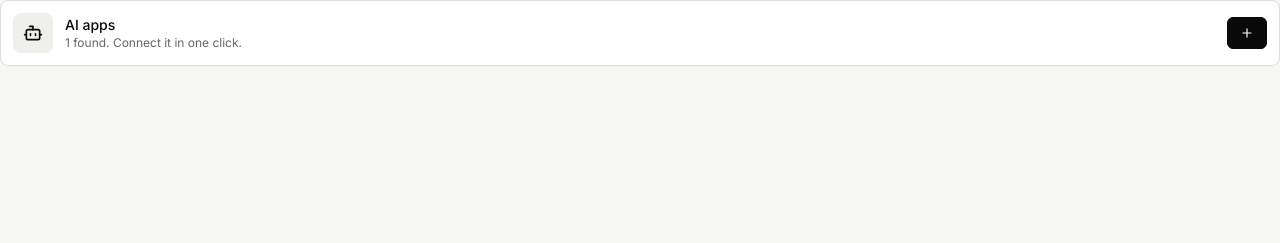
Test: AiToolsCard › connects and removes antigravity without skills
Later steps or results of the test are not shown.
Click the button "AI apps 1 found. Connect it in one click." at (33, 33), box x1=13 y1=13 x2=1215 y2=53
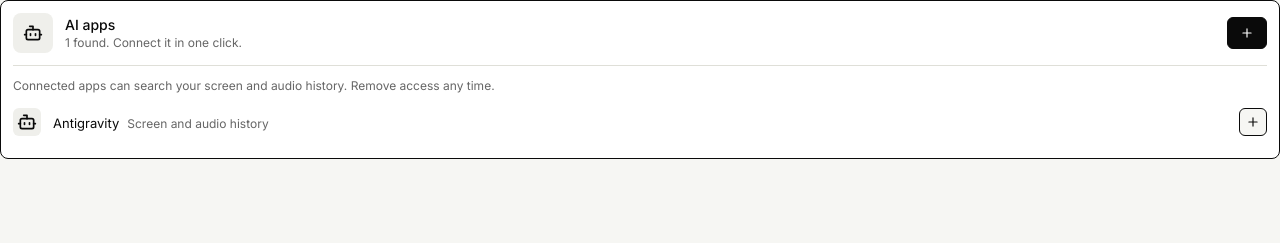
Click the button named "Connect Antigravity" at (1253, 122), box x1=1239 y1=108 x2=1267 y2=136
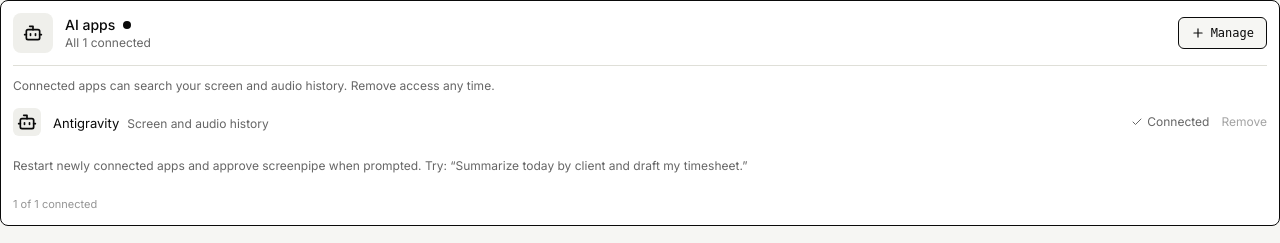
Expected: the text "All 1 connected" is shown, x1=65 y1=35 x2=151 y2=51
